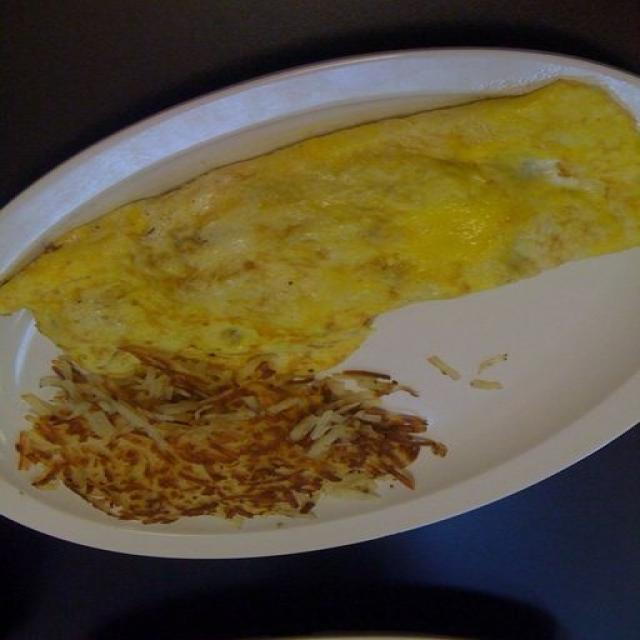telur_ayam_dadar: (0, 79, 638, 385)
